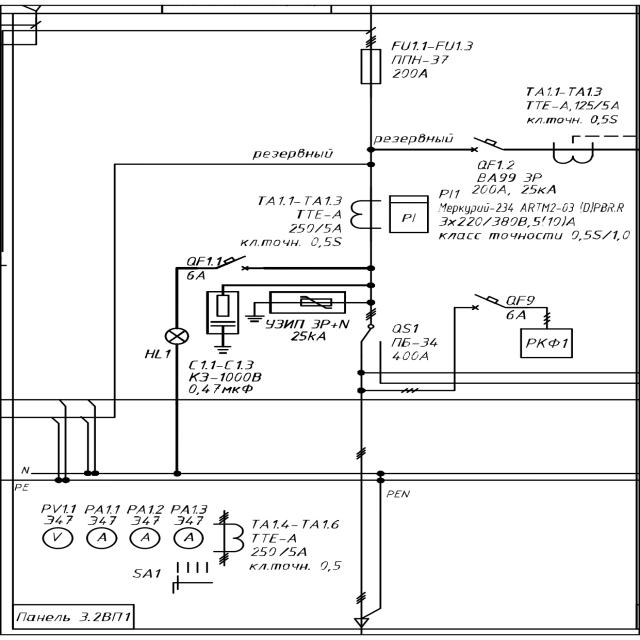-: (435, 200, 632, 241), (238, 208, 344, 249), (248, 533, 352, 573), (522, 98, 624, 128), (388, 52, 482, 80), (265, 317, 351, 344), (471, 172, 562, 197), (15, 608, 130, 626), (389, 337, 436, 365), (168, 503, 212, 527), (81, 503, 121, 529), (38, 501, 78, 526), (127, 503, 168, 527), (130, 564, 166, 583), (526, 336, 570, 349), (185, 270, 224, 280), (504, 309, 537, 320)
FU: (359, 46, 384, 86)
HL: (164, 325, 191, 346)
PA: (171, 526, 204, 551), (129, 526, 162, 551), (85, 526, 119, 550)
PV: (41, 526, 77, 551)
QF: (468, 135, 505, 156), (468, 293, 506, 312), (217, 254, 250, 271)
R: (516, 326, 577, 359)
S: (167, 558, 216, 594)
TT: (548, 140, 598, 166), (211, 521, 246, 555), (348, 197, 382, 231)
WH: (387, 193, 430, 234)
YZIP: (268, 289, 348, 315)
switch: (358, 323, 385, 346)
